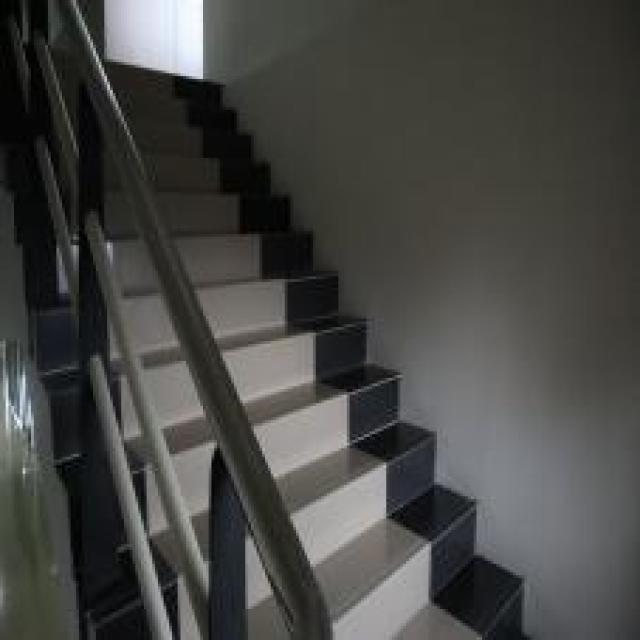upstair: (142, 86, 291, 266)
